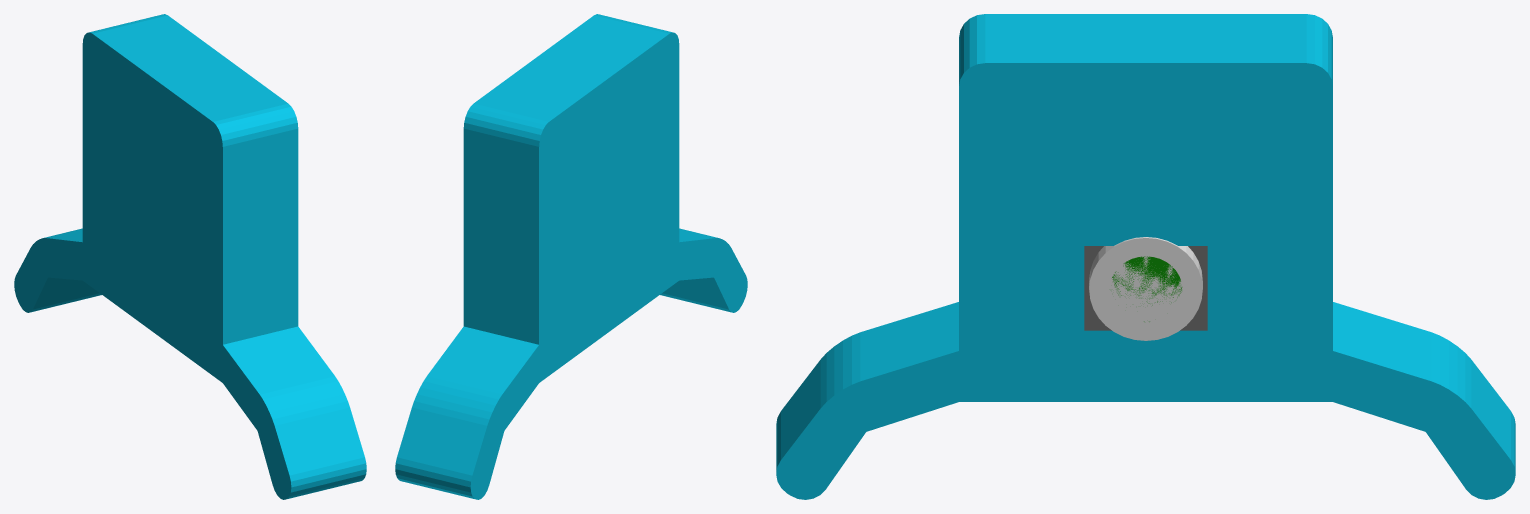
The model's file is RPICam.fbx.
The picture shows the model from 3 angles, left to right: view 1: azimuth 30°, elevation 25°; view 2: azimuth 150°, elevation 25°; view 3: azimuth 270°, elevation 25°; orthographic projection. The views are drawn at different scales.
Visible parts, largest first — view 1: Cube; view 2: Cube; view 3: Cube, Lens, Plane.
Part boxes in pixels (x1,y1,x2,y2): Cube: (14, 14, 366, 499); Cube: (395, 14, 747, 499); Cube: (776, 14, 1515, 499); Lens: (1089, 237, 1202, 340); Plane: (1084, 246, 1207, 330).
Size of the model in its own units: 67.04 by 272 by 418.
